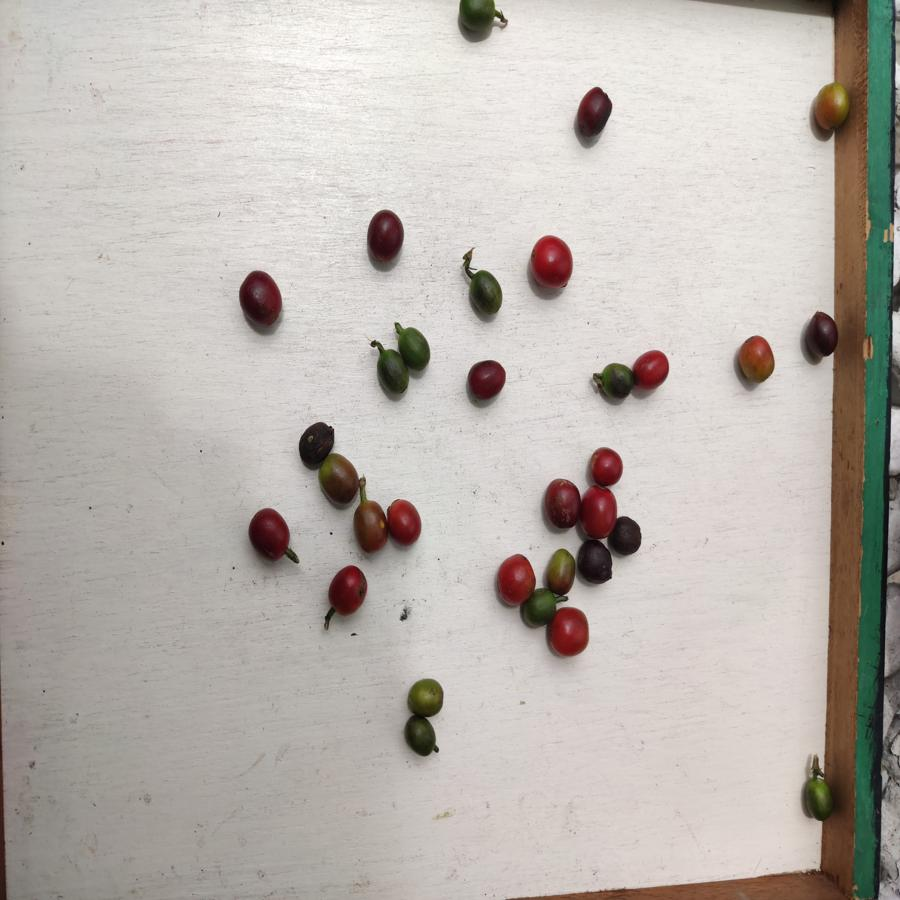Inmaduro: (395, 322, 437, 373), (795, 772, 836, 820), (464, 267, 503, 316), (402, 716, 441, 761), (456, 1, 502, 39), (374, 351, 411, 394), (595, 363, 634, 402), (522, 593, 558, 627)
Maduro: (530, 233, 574, 296), (327, 567, 370, 618), (551, 604, 590, 658), (493, 552, 532, 599), (580, 485, 615, 537), (387, 495, 422, 546), (585, 445, 626, 485), (633, 349, 671, 390)
Pinton: (318, 456, 360, 510), (734, 336, 778, 386), (350, 498, 388, 554), (810, 83, 849, 133), (543, 548, 578, 598), (405, 678, 447, 718)
Sobremaduro: (365, 208, 410, 269), (236, 271, 284, 328), (247, 506, 292, 566), (573, 86, 617, 138), (544, 477, 579, 532), (575, 538, 614, 587), (802, 308, 838, 361), (468, 362, 511, 402), (296, 423, 334, 462), (611, 515, 641, 557)
